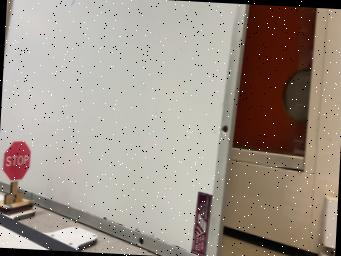stop: (0, 139, 32, 213), (0, 139, 32, 213), (0, 139, 32, 213), (0, 139, 32, 213), (0, 139, 32, 213)
street: (0, 213, 82, 252), (0, 213, 82, 252), (0, 213, 82, 252), (0, 213, 82, 252), (0, 213, 82, 252)
